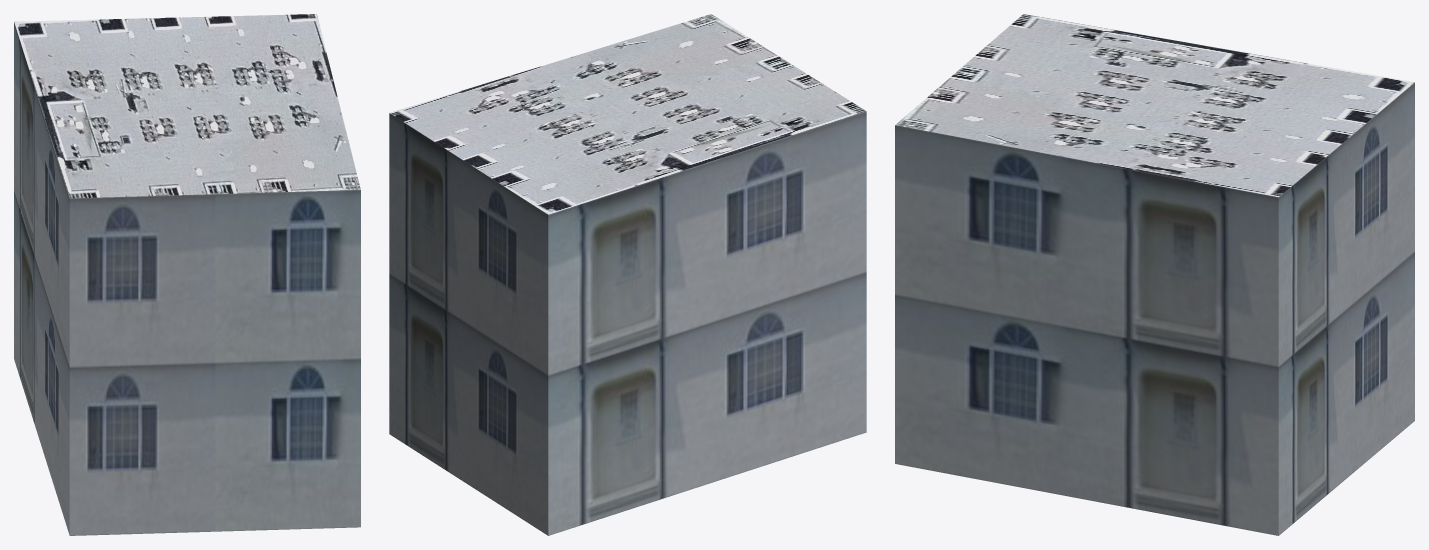
Rendered from ResTex__888.fbx.
3 renders of one model, left to right at view 1: azimuth 30°, elevation 25°; view 2: azimuth 150°, elevation 25°; view 3: azimuth 270°, elevation 25°, orthographic. The views are drawn at different scales.
Parts seen in each view (by area): view 1: CityEngineMaterial_17_m, CityEngineMaterial_4_m; view 2: CityEngineMaterial_17_m, CityEngineMaterial_4_m; view 3: CityEngineMaterial_17_m, CityEngineMaterial_4_m.
Boxes of the visible parts, x1,y1,x2,y2 form: CityEngineMaterial_17_m: (14, 22, 360, 535); CityEngineMaterial_4_m: (14, 14, 360, 198); CityEngineMaterial_17_m: (389, 111, 866, 535); CityEngineMaterial_4_m: (390, 14, 865, 214); CityEngineMaterial_17_m: (895, 82, 1414, 535); CityEngineMaterial_4_m: (895, 14, 1414, 197).
Size of the model in its own units: 6.97 by 6 by 8.35.
Materials: 2 (2 with a texture image).
